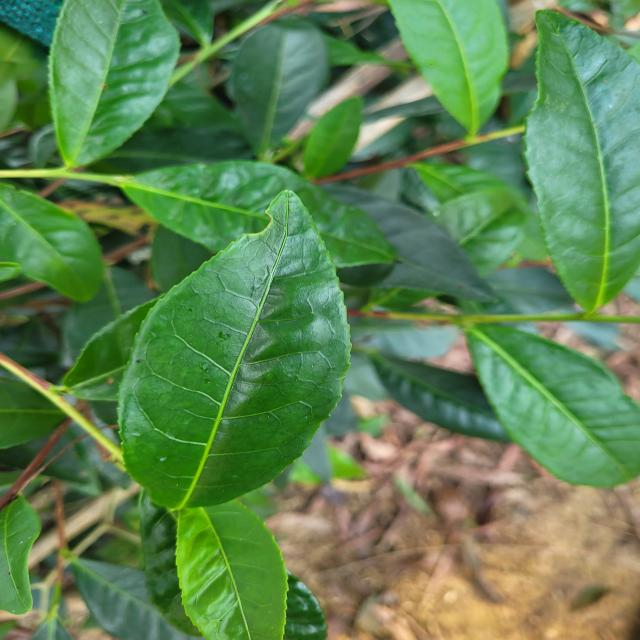Category D(7+ days, Not for Tea): (96, 181, 372, 536)
